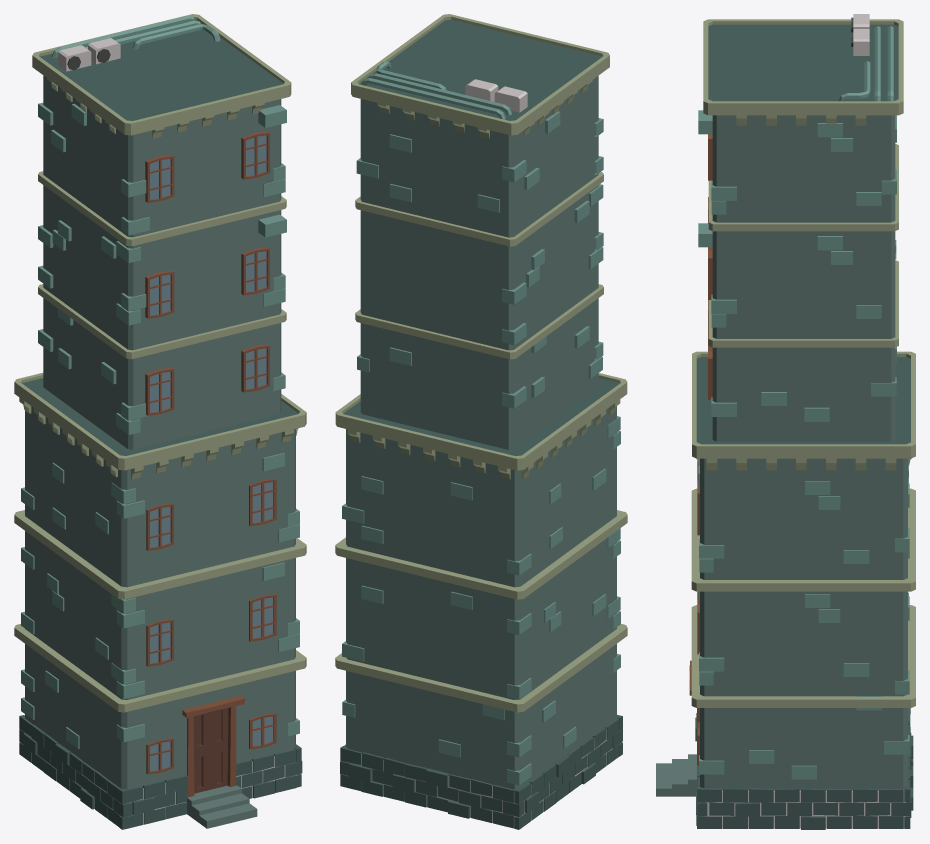
File: six_story_stack_mat.glb
3 views of the same model, side by side, from view 1: azimuth 30°, elevation 25°; view 2: azimuth 150°, elevation 25°; view 3: azimuth 270°, elevation 25° (orthographic). The views are drawn at different scales.
Parts seen in each view (by area): view 1: 6Story_Stack_Mat; view 2: 6Story_Stack_Mat; view 3: 6Story_Stack_Mat.
Part boxes in pixels (<box>): 6Story_Stack_Mat: <box>14,14,306,829</box>; 6Story_Stack_Mat: <box>335,14,627,829</box>; 6Story_Stack_Mat: <box>656,14,915,829</box>.
Bounding box in the file's own units: 2.16 × 7.8 × 2.5.
Materials: 1 (1 with a texture image).
